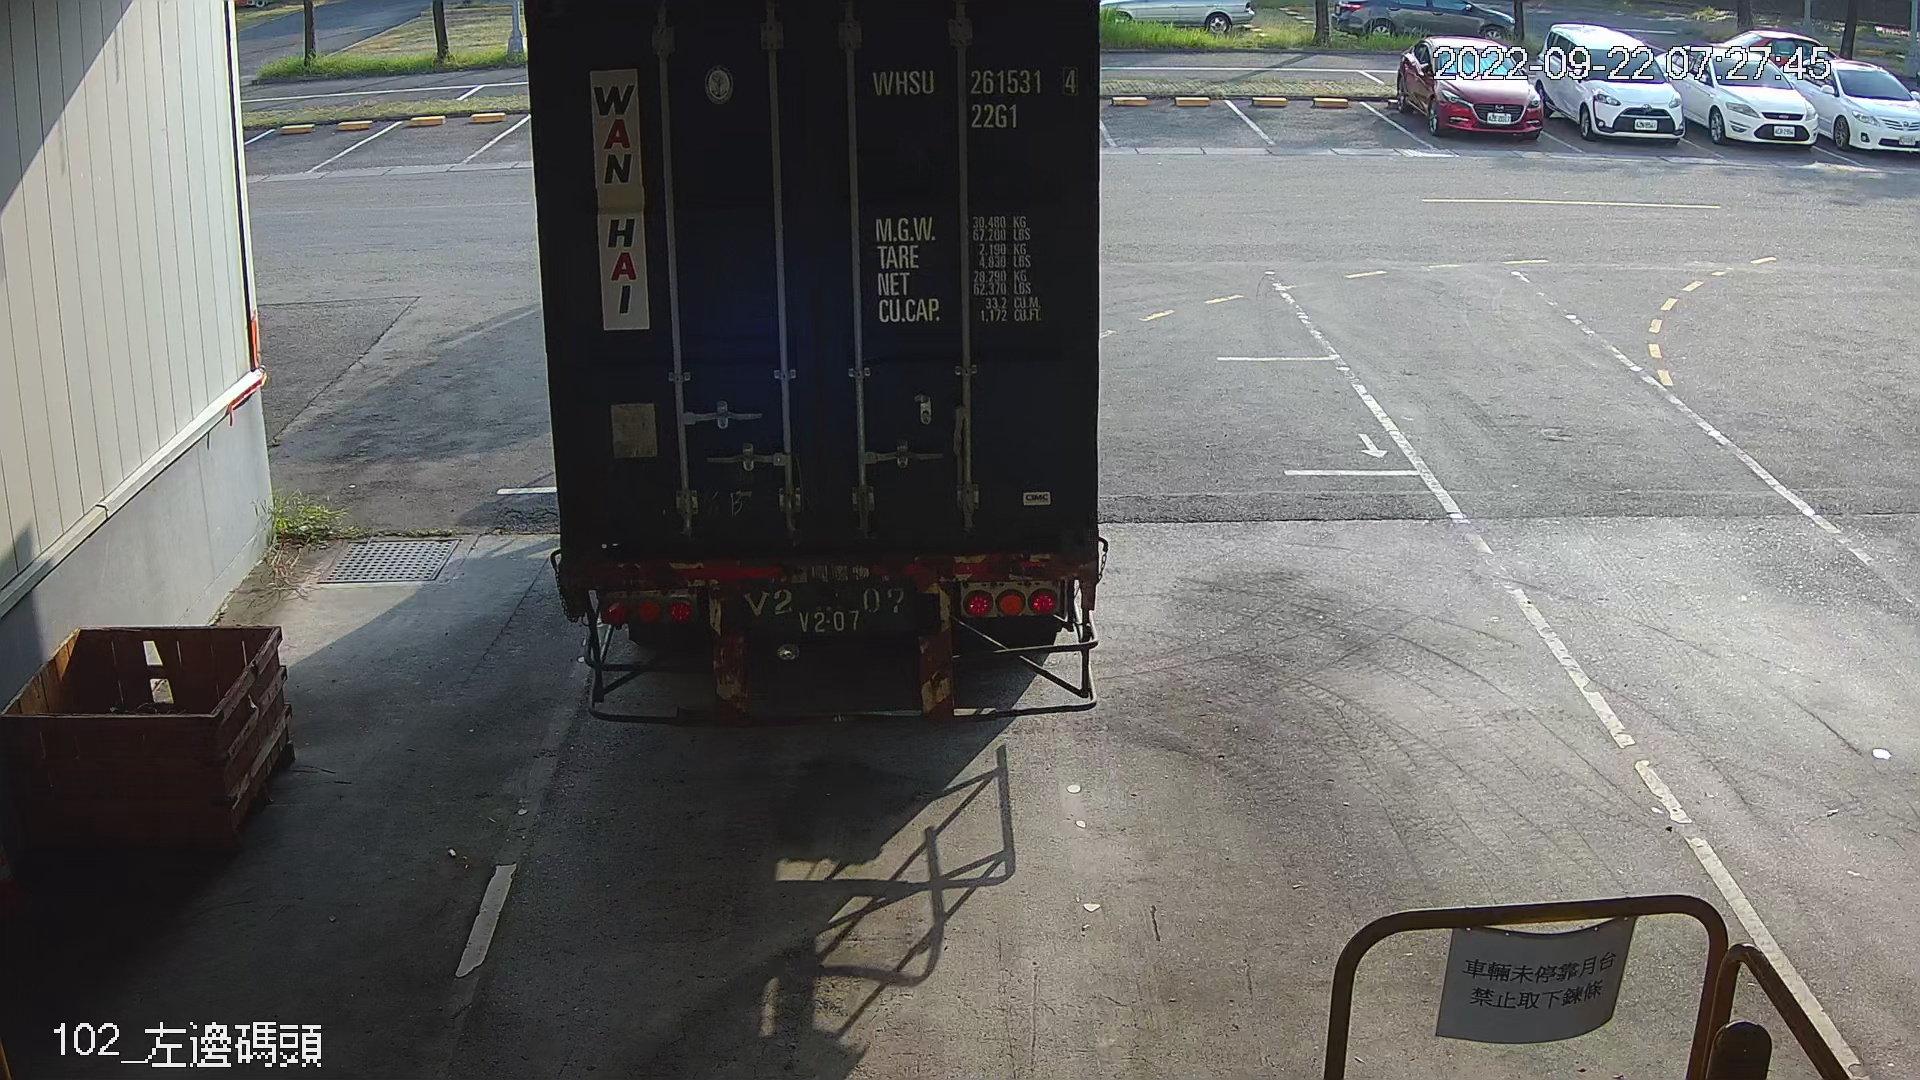container: (862, 57, 1088, 135)
